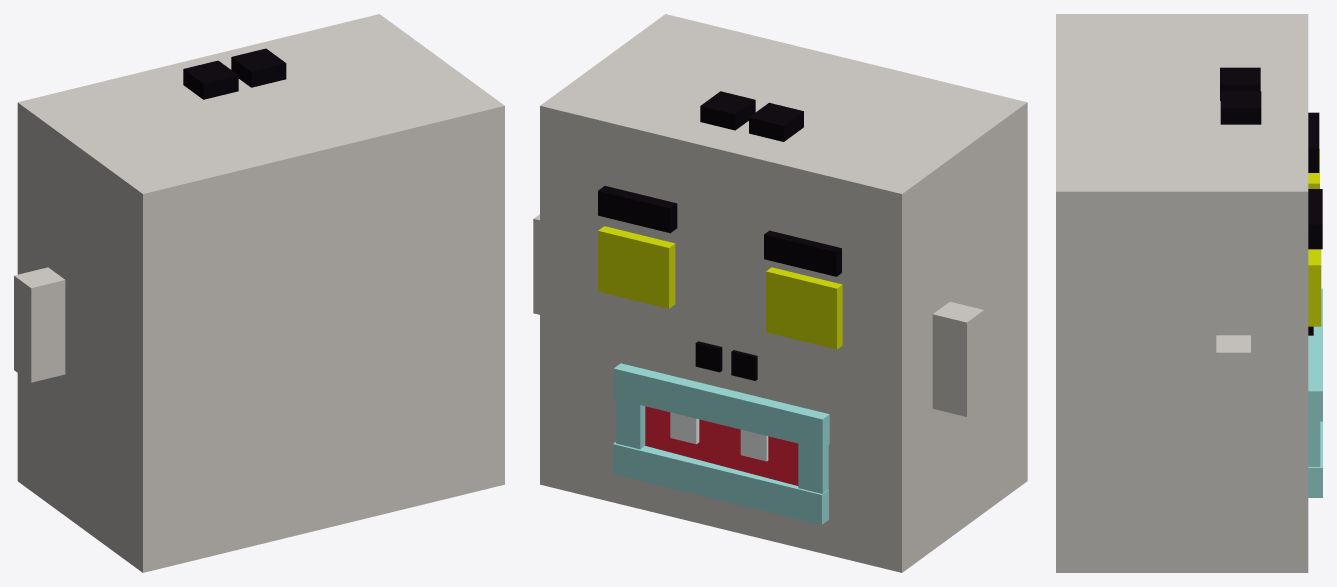
Rendered from zombie_blanco_cortado_horizontal.fbx.
The picture shows the model from 3 angles, left to right: view 1: azimuth 30°, elevation 25°; view 2: azimuth 150°, elevation 25°; view 3: azimuth 270°, elevation 25°; orthographic projection.
Parts seen in each view (by area): view 1: Plano, Plano.001; view 2: Plano, Plano.001; view 3: Plano, Plano.001.
Part boxes in pixels (x1,y1,x2,y2): Plano: (14,14,504,386); Plano.001: (14,301,504,572); Plano: (533,14,1027,386); Plano.001: (533,272,1027,572); Plano: (1056,14,1322,405); Plano.001: (1056,288,1322,572).
Size of the model in its own units: 238 by 208 by 127.
